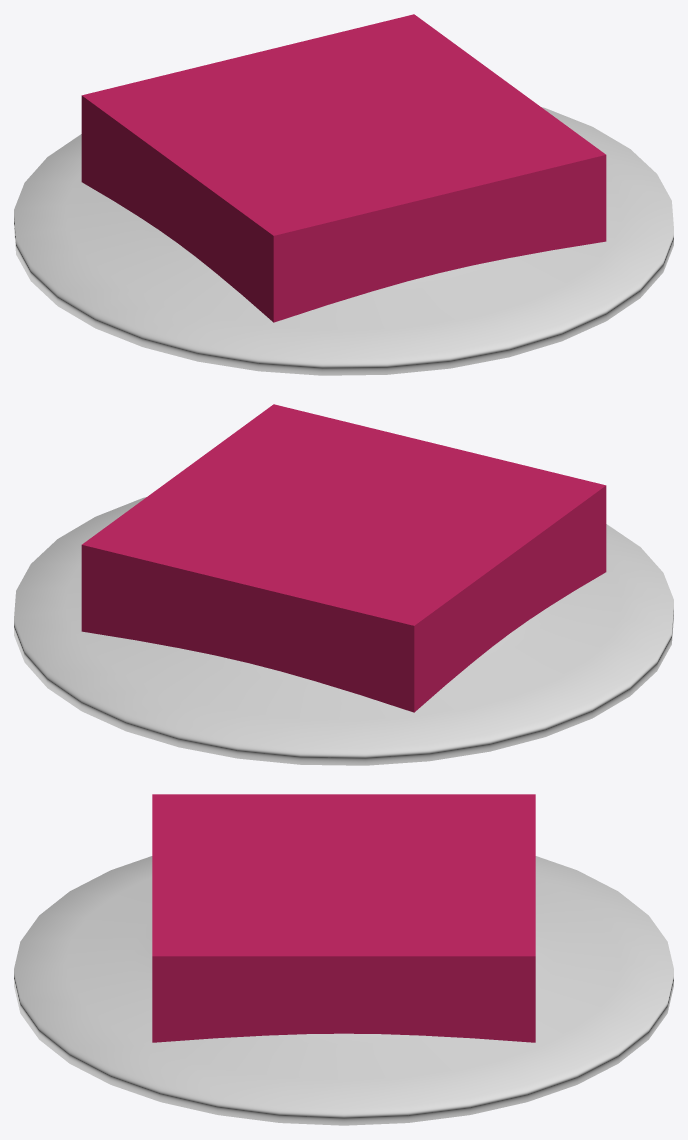
Rendered from FullModelButton.gltf.
The picture shows the model from 3 angles, top to bottom: view 1: azimuth 30°, elevation 25°; view 2: azimuth 150°, elevation 25°; view 3: azimuth 270°, elevation 25°; orthographic projection.
Visible parts, largest first — view 1: Cube, Cylinder; view 2: Cube, Cylinder; view 3: Cube, Cylinder.
Part boxes in pixels (x1=…): Cube: x1=81, y1=14, x2=606, y2=322; Cylinder: x1=14, y1=107, x2=673, y2=375; Cube: x1=81, y1=404, x2=606, y2=712; Cylinder: x1=14, y1=497, x2=673, y2=765; Cube: x1=152, y1=794, x2=535, y2=1042; Cylinder: x1=14, y1=856, x2=673, y2=1125.
Bounding box in the file's own units: 2 × 0.3711 × 2.
